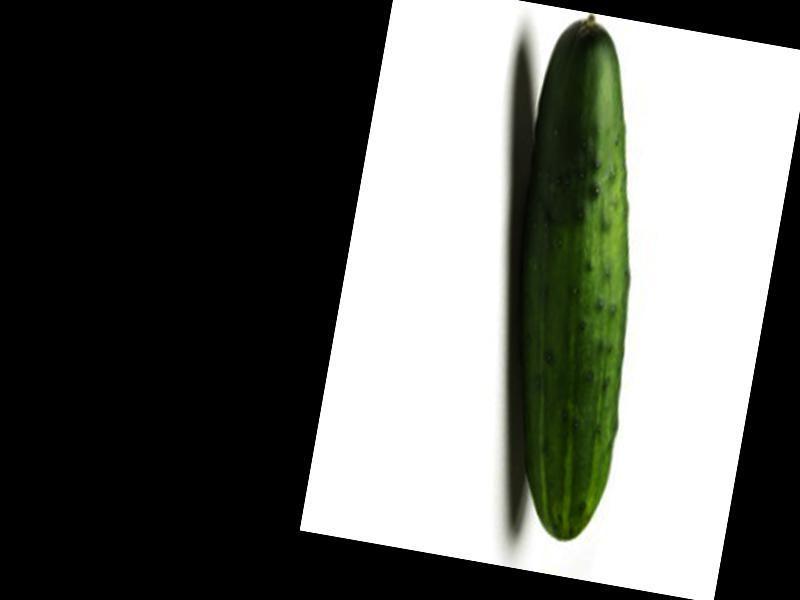Cucumber: (462, 8, 687, 544)
